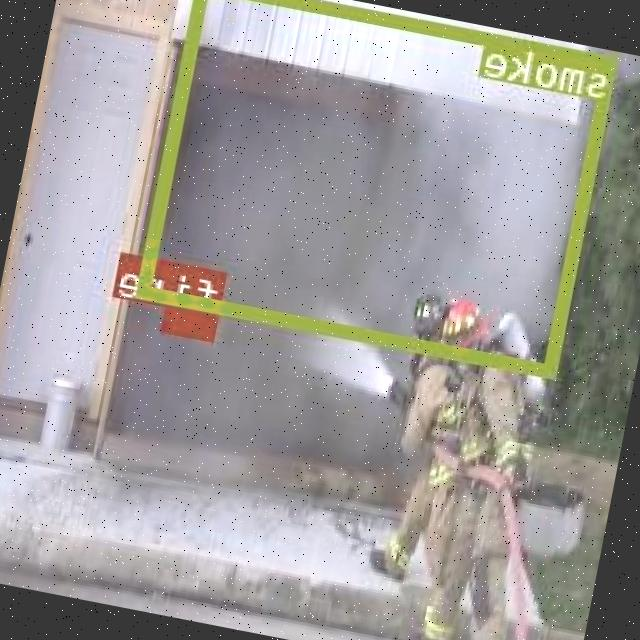fire: (166, 307, 220, 339)
smoke: (140, 0, 619, 377)
